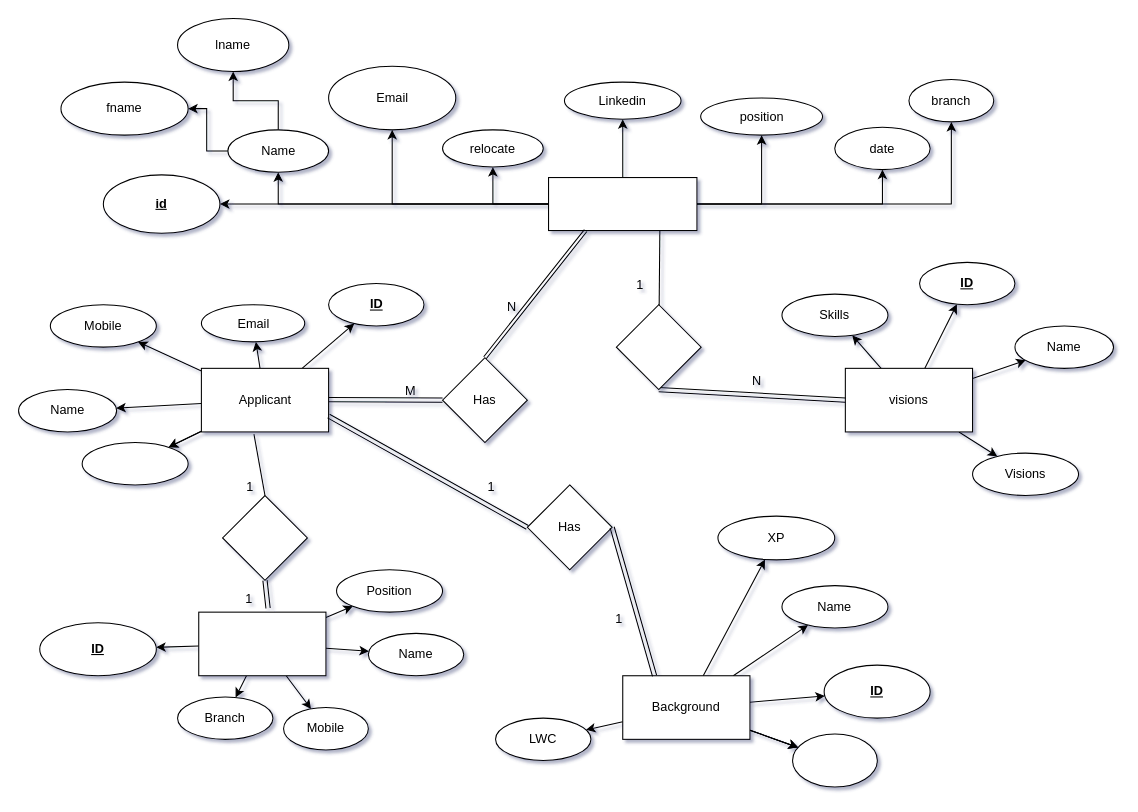
Some shapes in this 1138 by 812 pixel diagram are drawn without their labels. The shapes that lost their labels are listed below. From the top down, each one's centre as x and y in pixels, then its label:
point (622, 203): Submissions
point (658, 347): Gives
point (134, 463): DOB
point (264, 537): Lives
point (262, 643): Locate
point (834, 760): Skill
